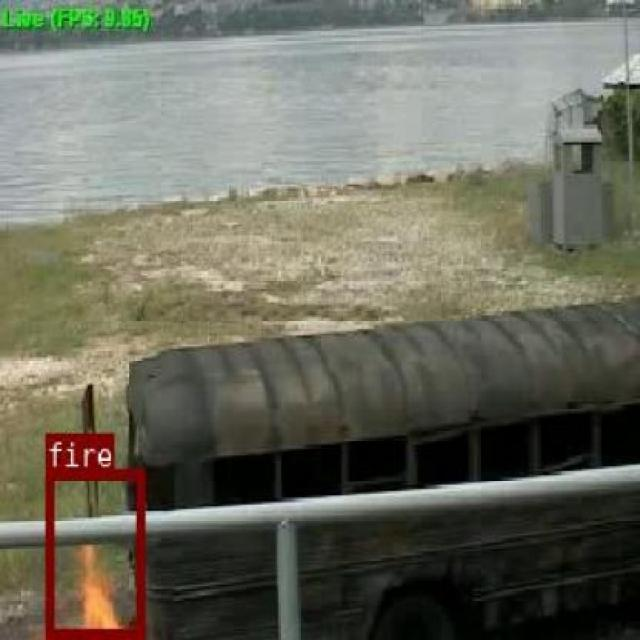Fire: (93, 168, 99, 552)
